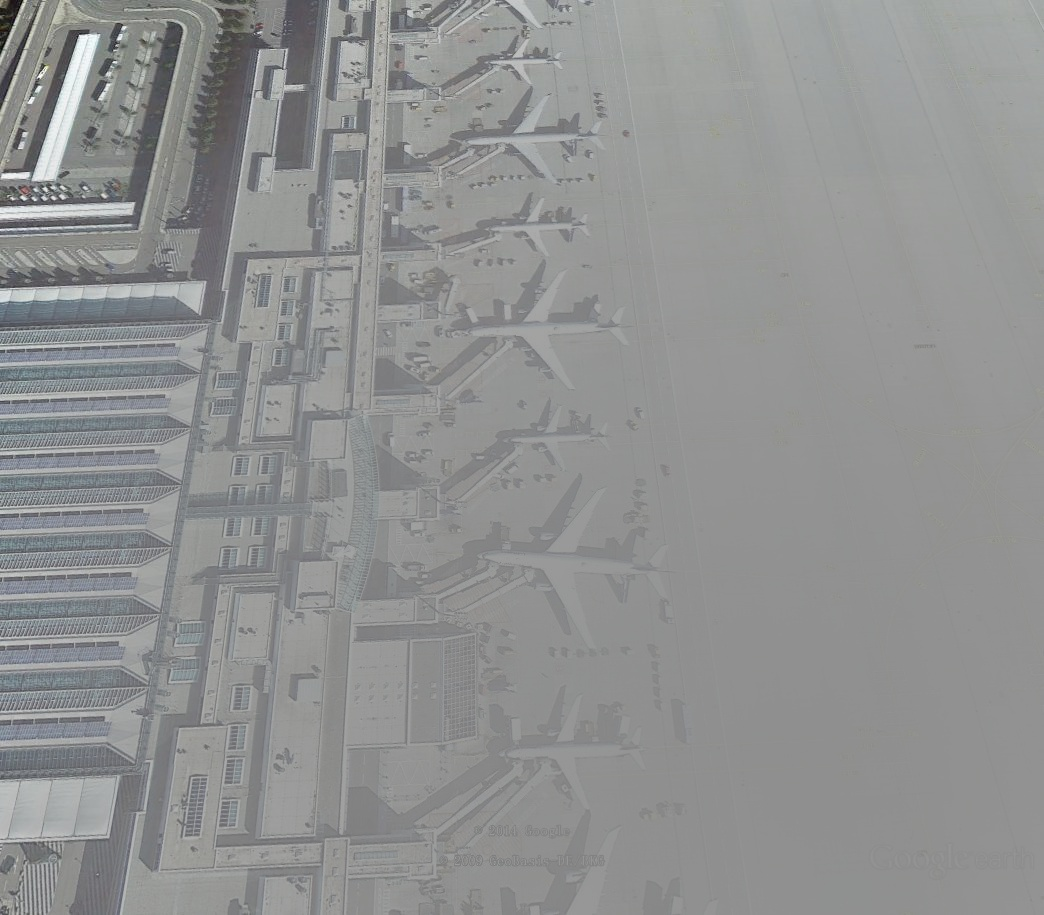aircraft: (473, 484, 678, 658), (454, 266, 639, 393), (493, 689, 651, 818), (458, 92, 611, 188), (503, 401, 618, 475), (480, 196, 595, 261), (476, 35, 567, 86)
